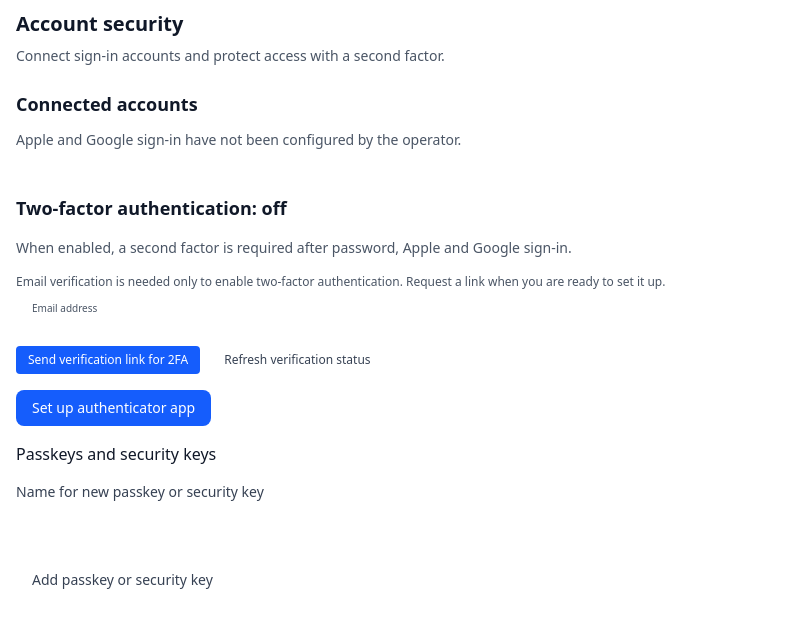
Scenario: AccountSecurityPanel provider callback › requires an address before requesting verification for an account without one
This screenshot has width=806, height=642.
Expected: the button "Send verification link for 2FA" is disabled, [16,346,200,374]
Type "new@example.invalid" into the field labelled "Email address" at (208, 318), box [16,302,400,334]
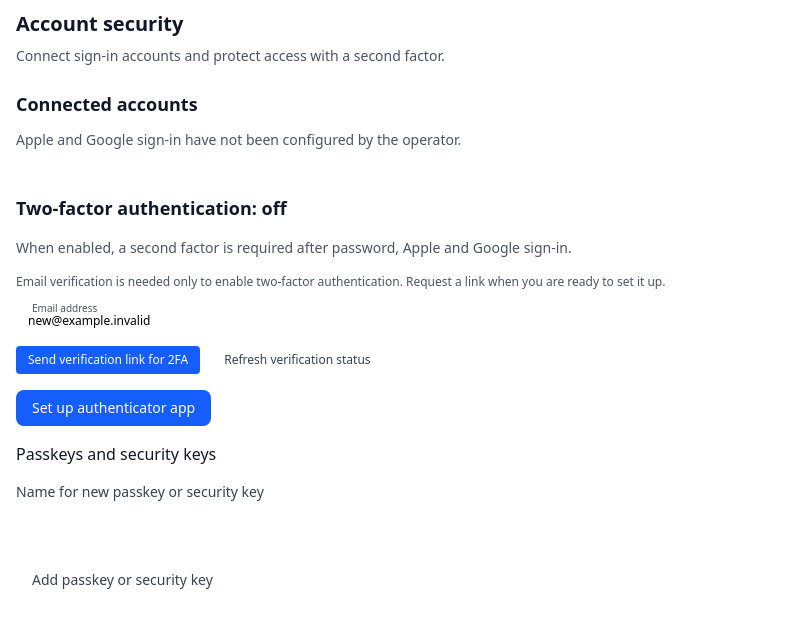
Click the button "Send verification link for 2FA" at (108, 360), box [16,346,200,374]
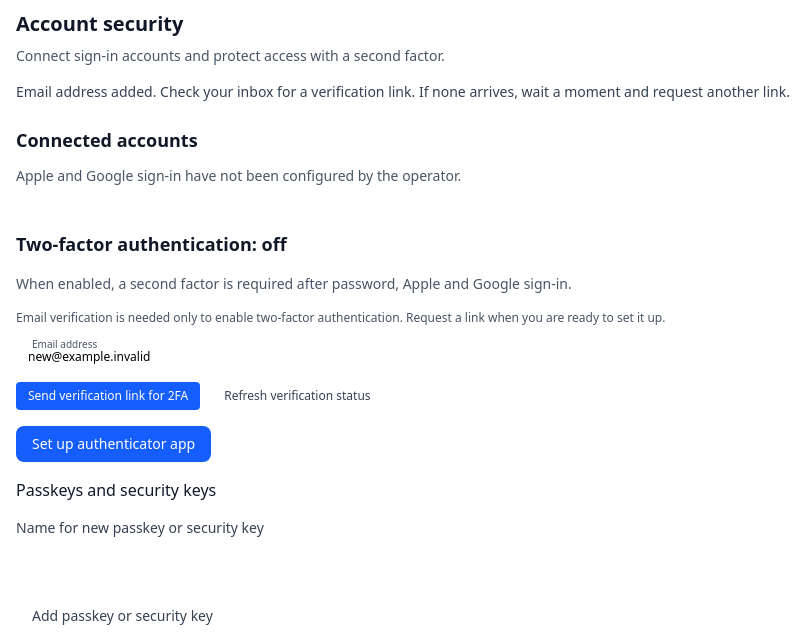
Expected: the message does not show "Verification link sent", [16,82,790,101]
Now the message shows "Email address added. Check your inbox", box [16,82,790,101]
